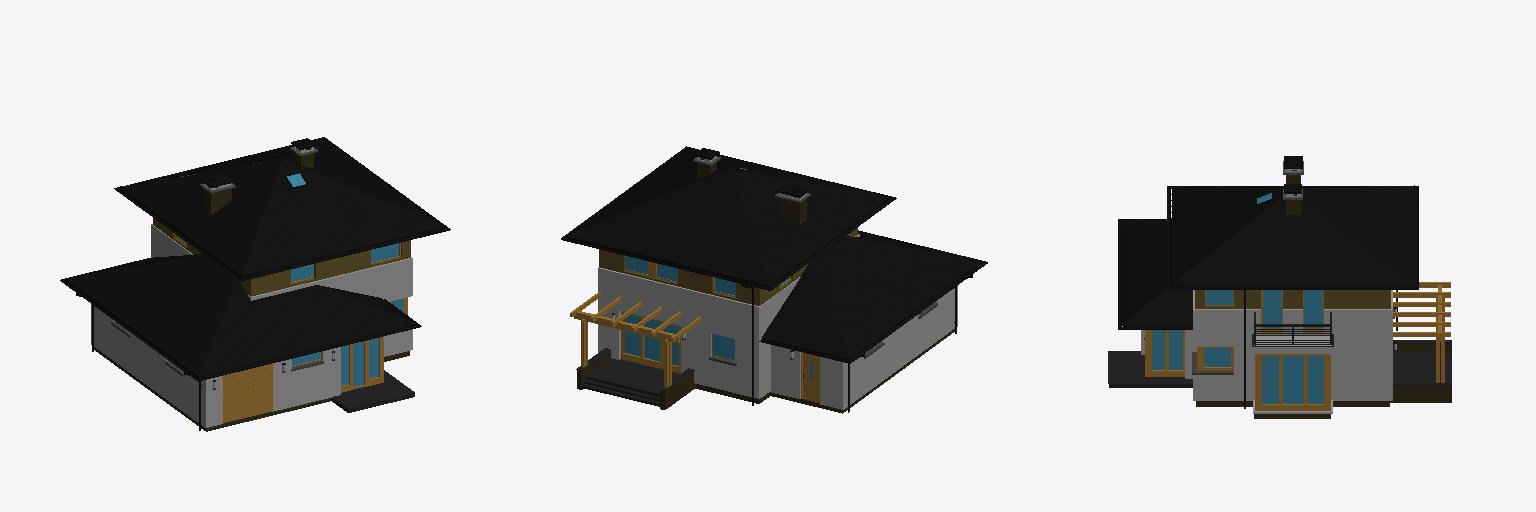
Rendered from Bambo_House.obj.
3 renders of one model, left to right at view 1: azimuth 30°, elevation 25°; view 2: azimuth 150°, elevation 25°; view 3: azimuth 270°, elevation 25°, orthographic.
Visible parts, largest first — view 1: Bambo_House; view 2: Bambo_House; view 3: Bambo_House.
Part boxes in pixels (x1,y1,x2,y2): Bambo_House: (60,137,450,431); Bambo_House: (561,146,987,413); Bambo_House: (1108,156,1451,418).
Size of the model in its own units: 13.64 by 9 by 14.54.